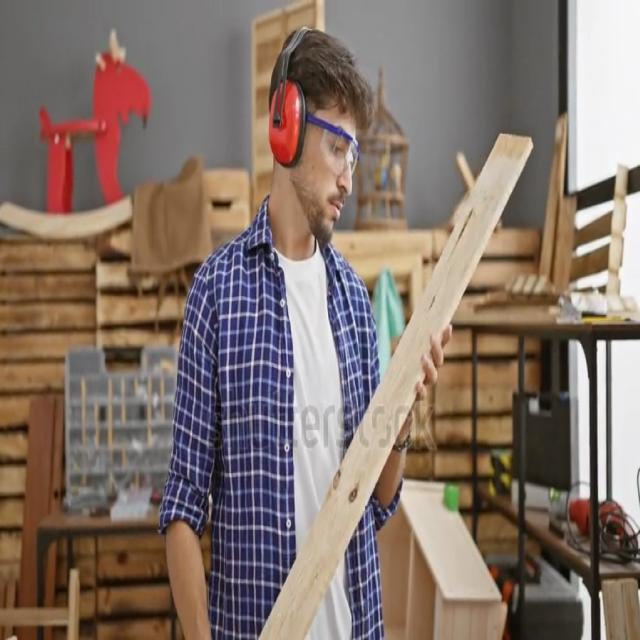Ear-Protection: (266, 74, 306, 173)
Glasses: (312, 117, 365, 175)
